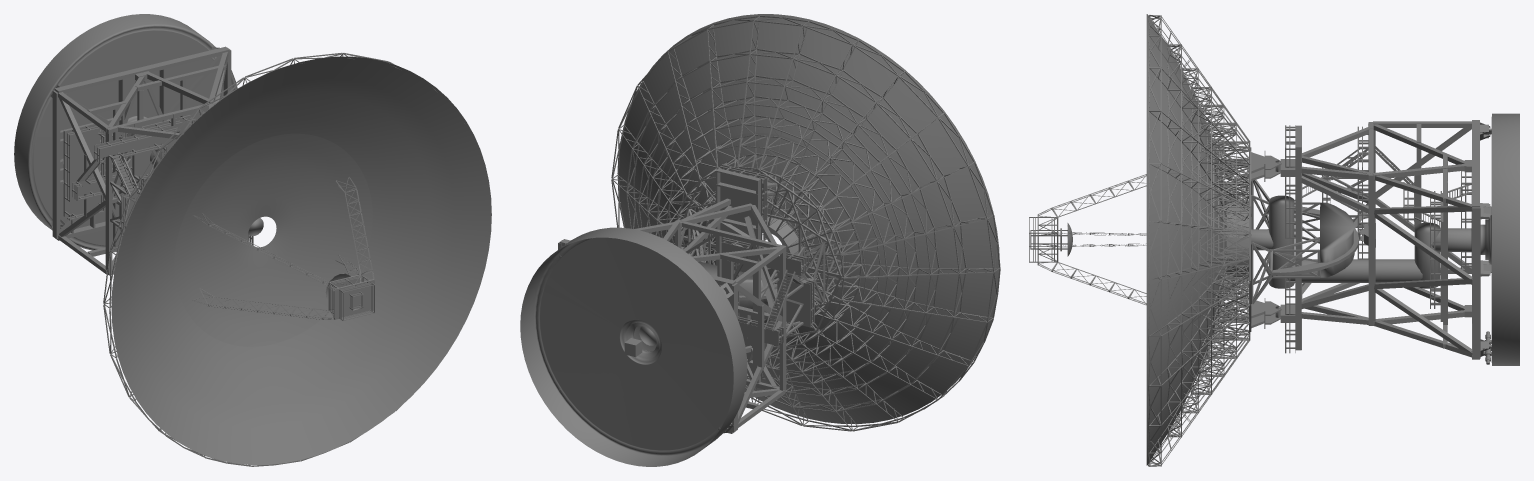
The model's file is Antenna.fbx.
3 views of the same model, side by side, from view 1: azimuth 30°, elevation 25°; view 2: azimuth 150°, elevation 25°; view 3: azimuth 270°, elevation 25° (orthographic). The views are drawn at different scales.
Parts seen in each view (by area): view 1: Antena; view 2: Antena; view 3: Antena.
Part boxes in pixels (<box>): Antena: <box>14,14,491,466</box>; Antena: <box>520,14,1000,466</box>; Antena: <box>1029,14,1519,466</box>.
Bounding box in the file's own units: 219 × 219 × 237.
